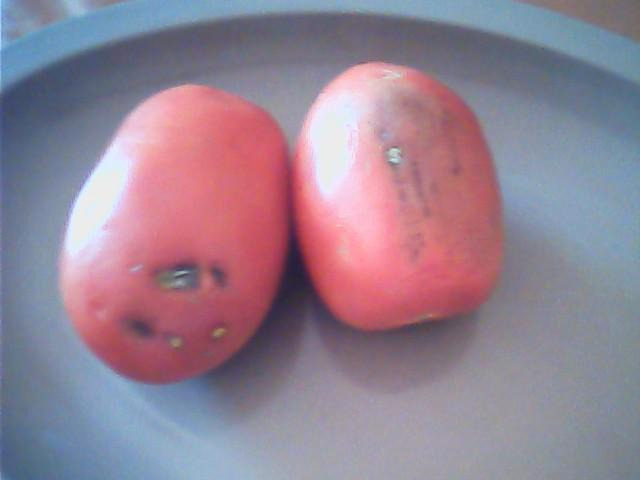defectuoso: (62, 83, 291, 388), (296, 60, 500, 331)
